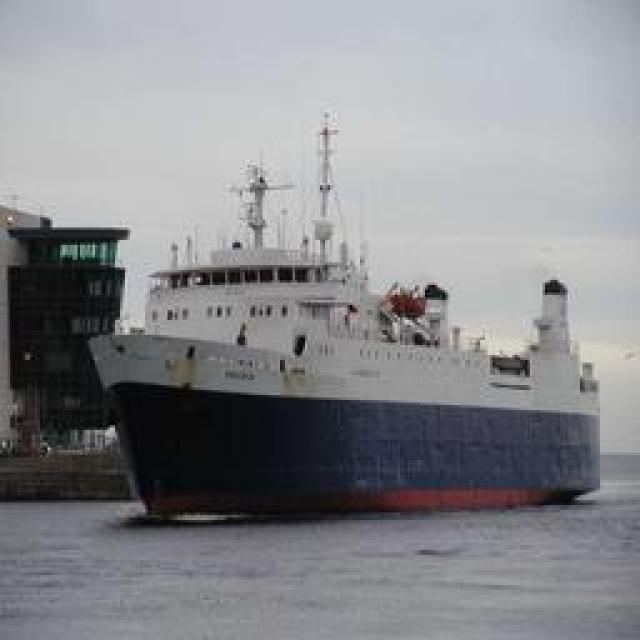Ship: (85, 81, 615, 519)
